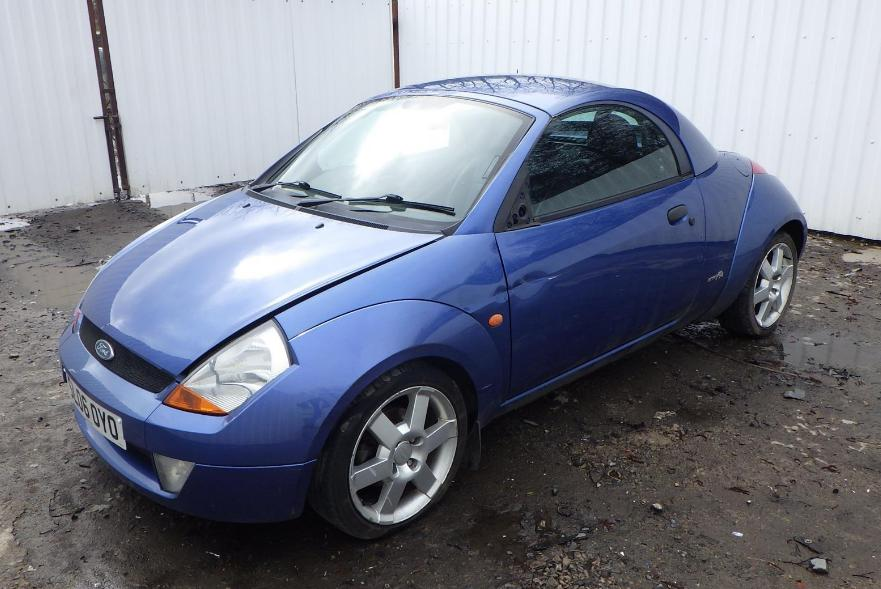Back-bumper: (696, 175, 806, 322)
Back-wheel: (715, 230, 797, 338)
Fender: (145, 232, 511, 467), (59, 322, 73, 347)
Front-bumper: (59, 330, 316, 522)
Front-door: (495, 100, 705, 400)
Front-wheel: (308, 362, 469, 540)
Front-window: (494, 104, 681, 233)
Grille: (79, 315, 178, 393)
Headlight: (163, 318, 292, 416), (72, 307, 83, 333)
Hood: (80, 187, 446, 376)
License-plate: (65, 371, 126, 449)
Quarter-panel: (681, 152, 752, 318)
Rocker-panel: (502, 303, 712, 414)
Roof: (398, 75, 680, 136)
Tail-light: (750, 159, 770, 175)
Windshield: (247, 89, 543, 234)
